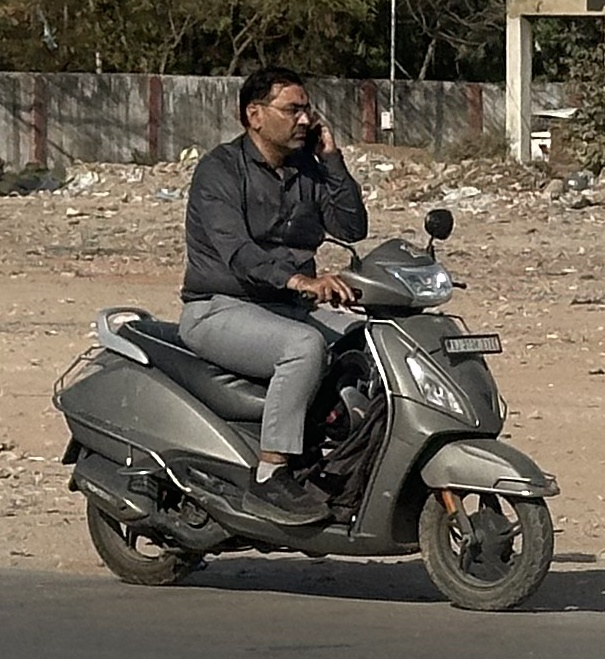BikeWithRider: (43, 55, 569, 616)
NoHelmet: (227, 60, 327, 158)
